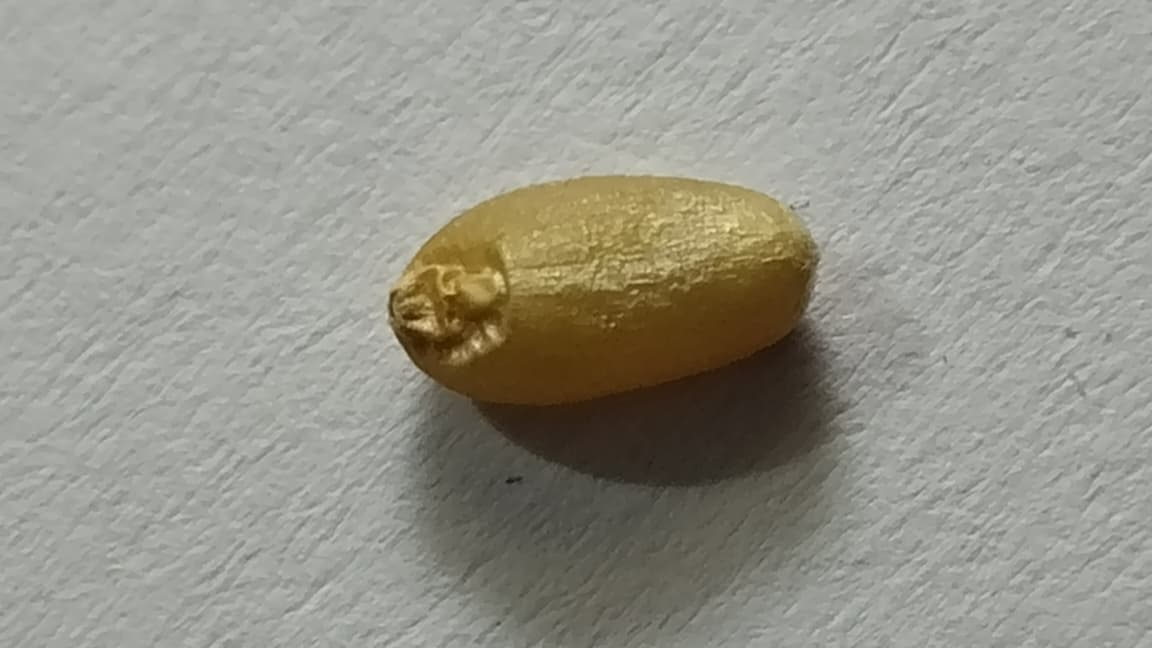healthy: (389, 176, 818, 404)
